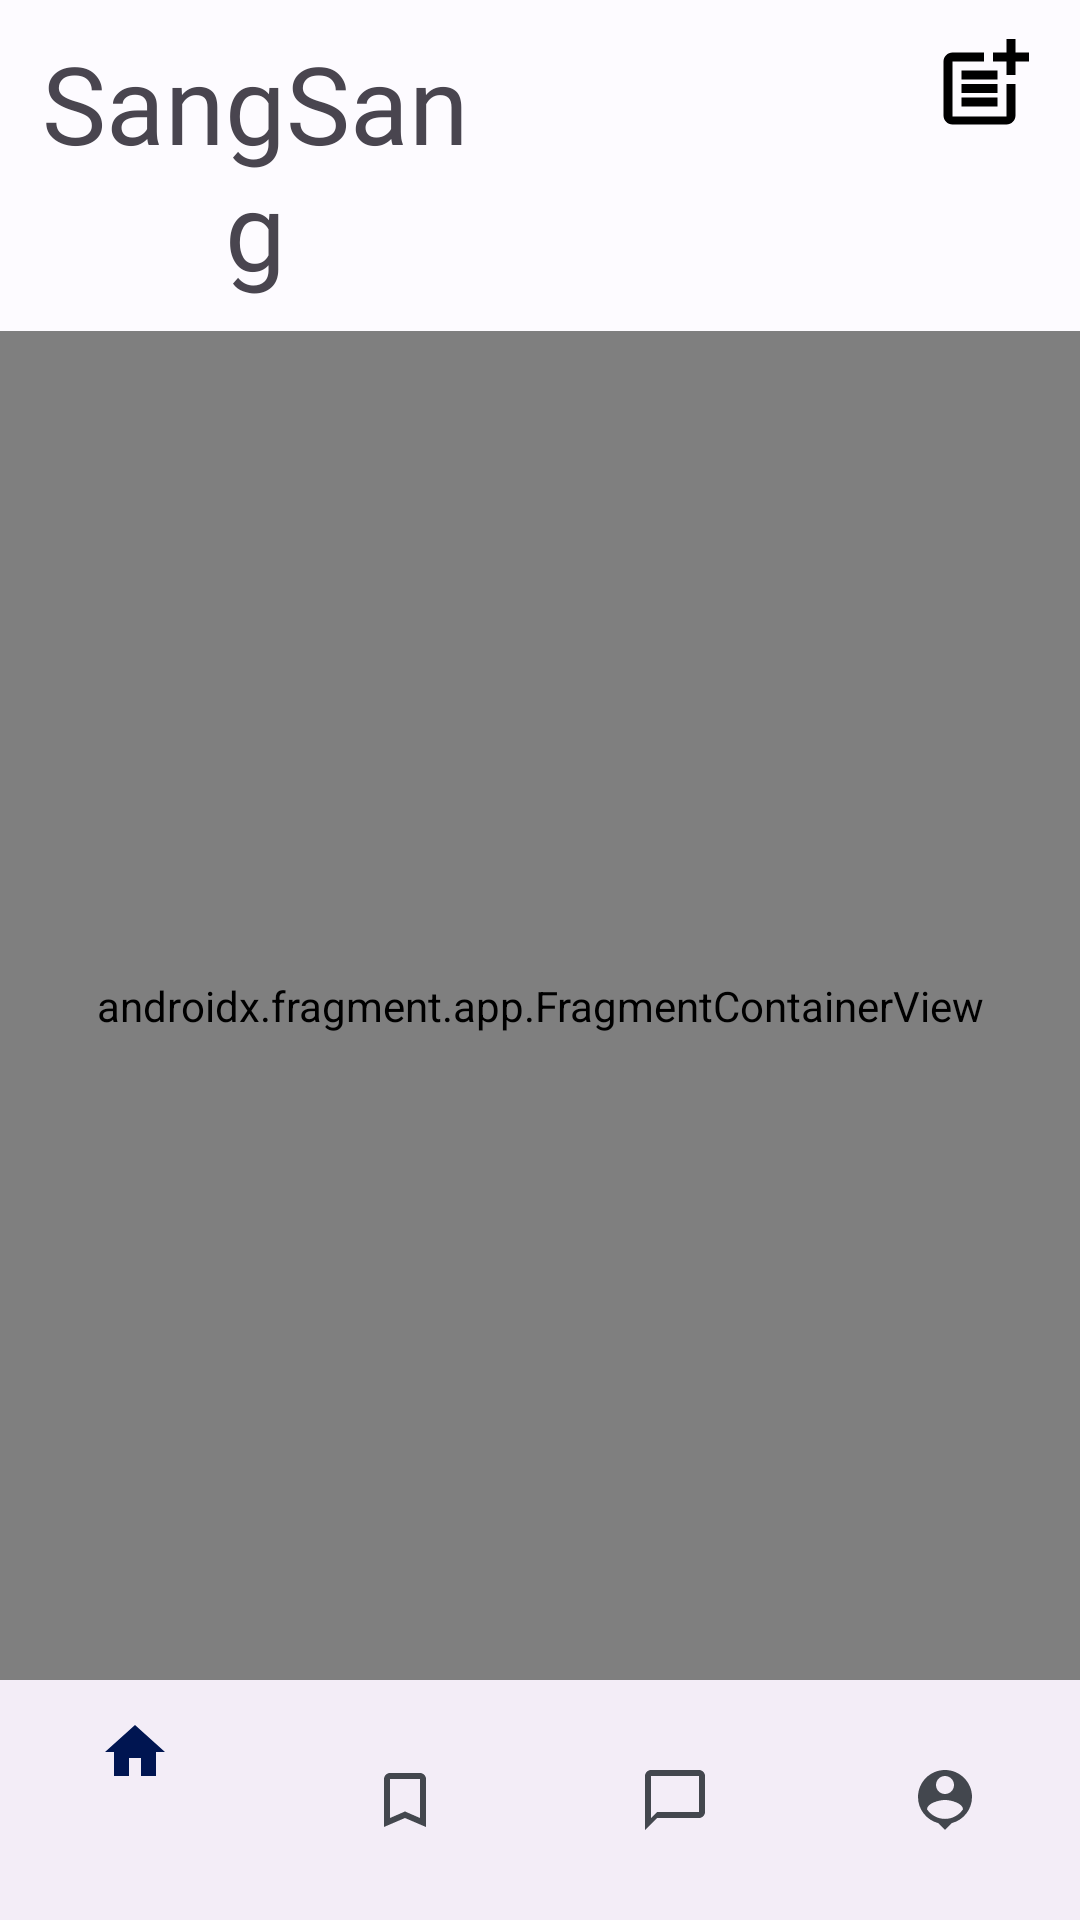

Screen size 1080 × 1920. Icon name, then its box in pixels as {"left": x1, "top": y1, "right": x2, "bottom": y2}:
post add: {"left": 943, "top": 39, "right": 1029, "bottom": 125}
